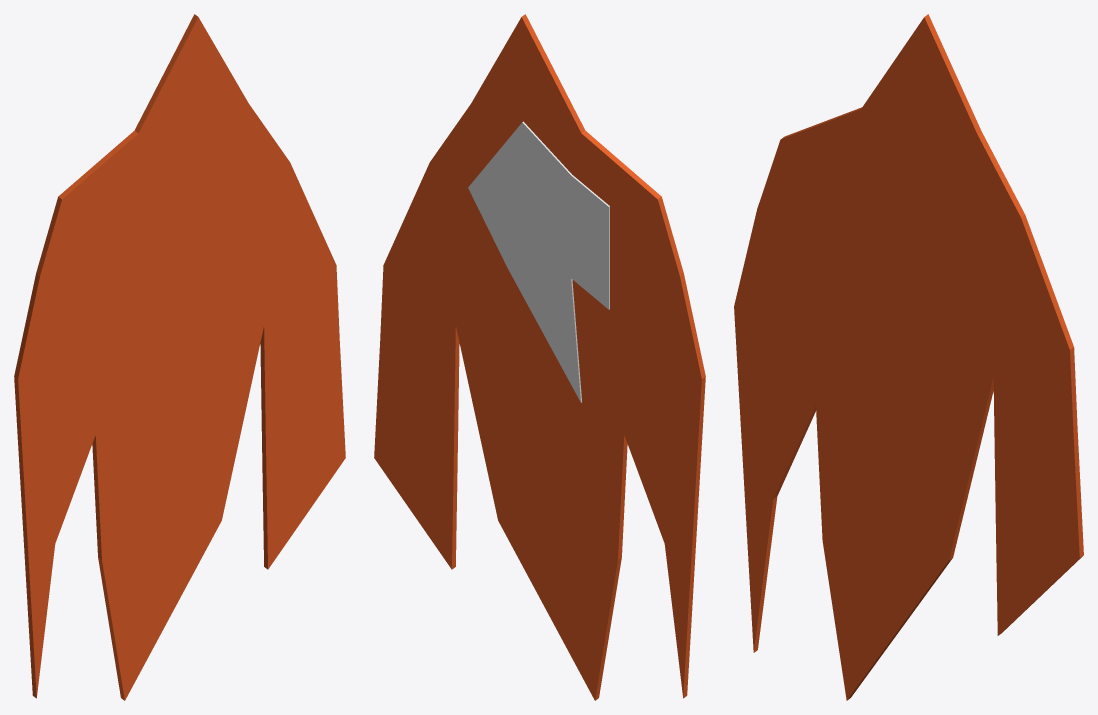
The model's file is fire.fbx.
The picture shows the model from 3 angles, left to right: view 1: azimuth 30°, elevation 25°; view 2: azimuth 150°, elevation 25°; view 3: azimuth 330°, elevation 25°; orthographic projection. The views are drawn at different scales.
Visible parts, largest first — view 1: boost; view 2: boost, Plane.001; view 3: boost.
Boxes of the visible parts, x1=… form: boost: x1=14, y1=14, x2=345, y2=700; boost: x1=374, y1=14, x2=705, y2=700; Plane.001: x1=468, y1=121, x2=609, y2=402; boost: x1=734, y1=14, x2=1083, y2=700.
Bounding box in the file's own units: 90.77 × 176 × 2.46.
